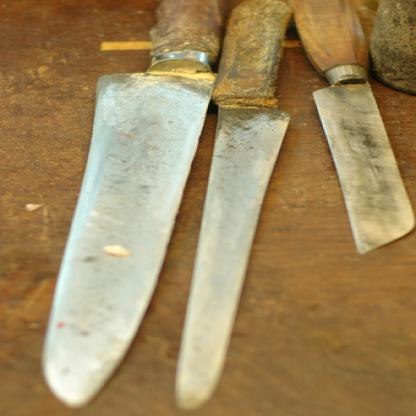knife: (33, 0, 225, 410), (172, 0, 298, 414), (286, 0, 415, 254)
